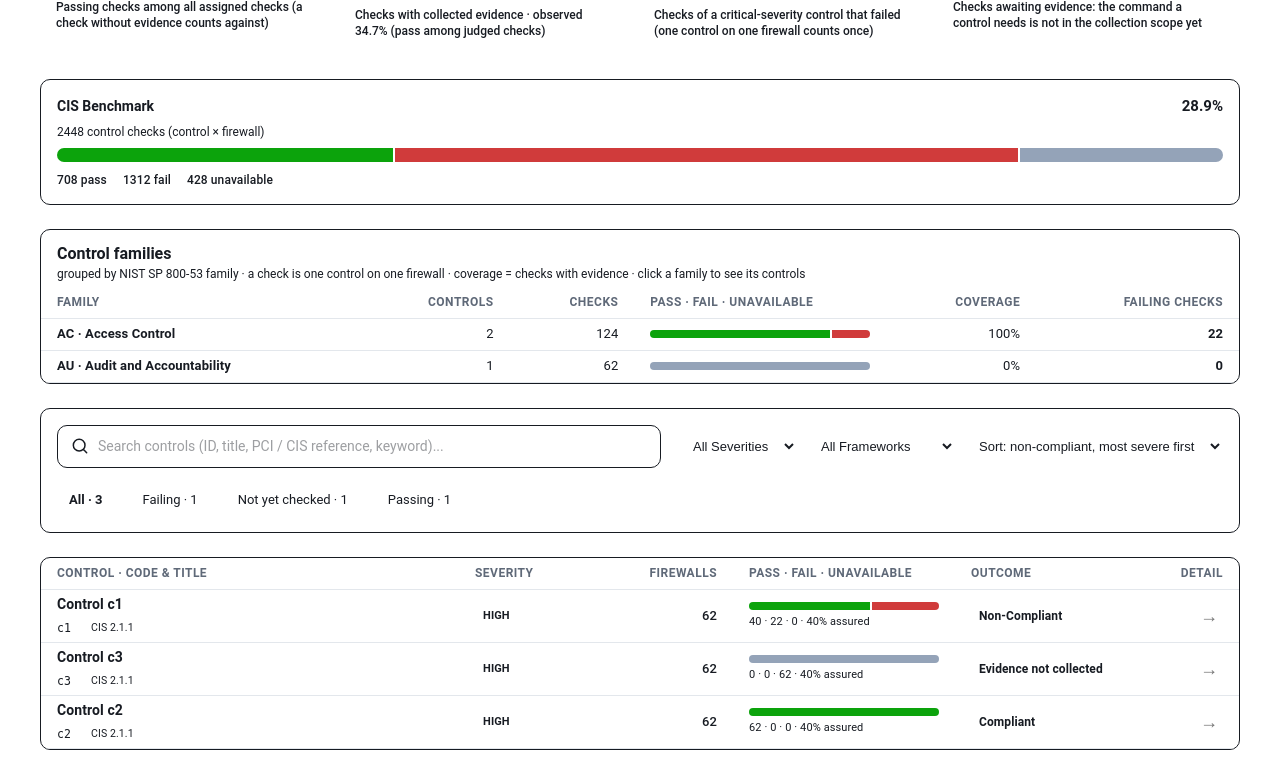
Compliance -- UI review 2026-09-23 › names a data gap 'Evidence not collected', never an internal cause, and never invents a device
(page scrolled)
Click the text "Control c1".
click(90, 604)  # box [57,596,123,612]
(page scrolled)
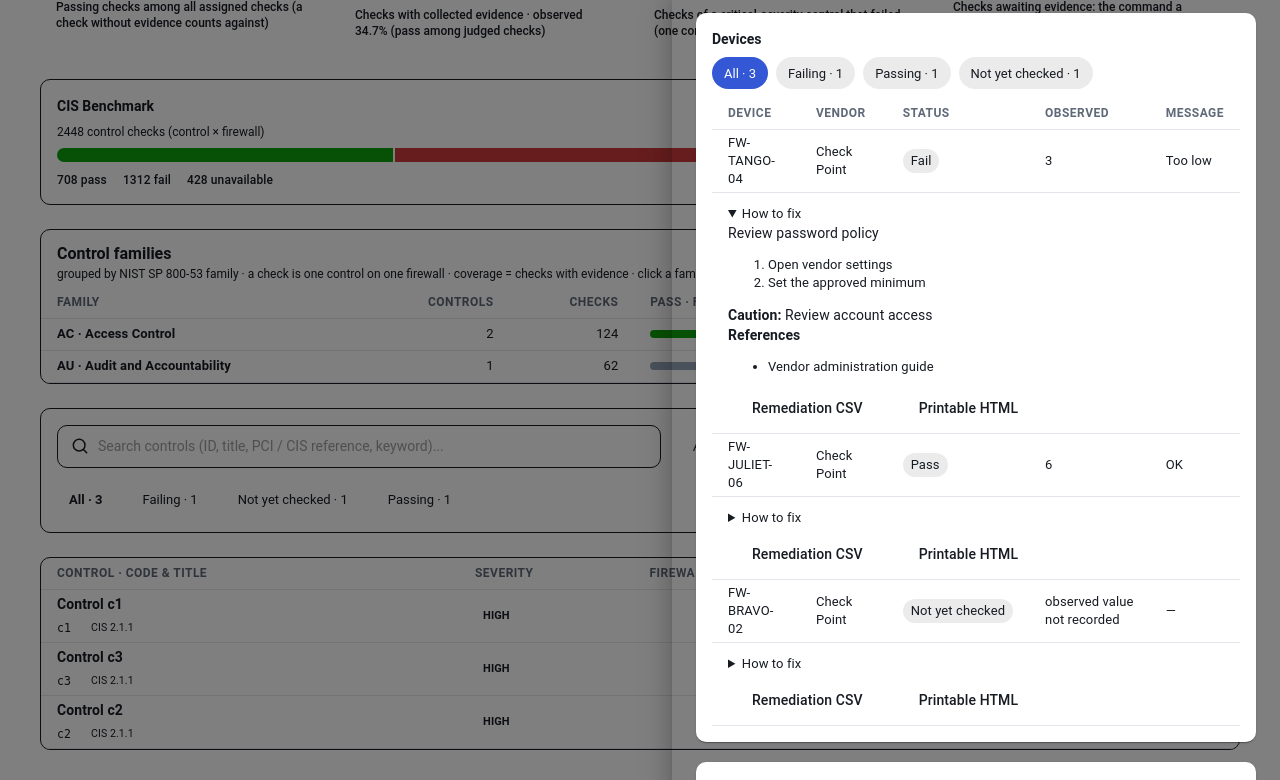
Now the text "FW-JULIET-06" is shown, box [712,433,800,496]
